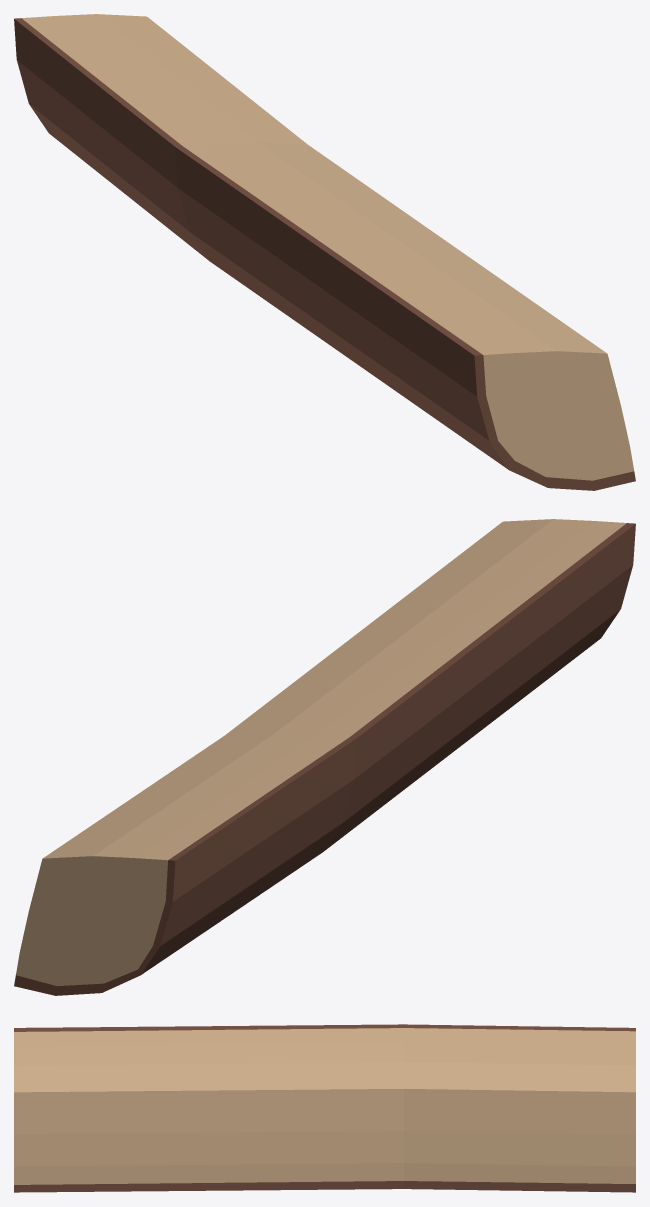
The model's file is ChoppedLog.fbx.
3 views of the same model, one above another, from view 1: azimuth 30°, elevation 25°; view 2: azimuth 150°, elevation 25°; view 3: azimuth 270°, elevation 25° (orthographic). The views are drawn at different scales.
Parts seen in each view (by area): view 1: Cube.009; view 2: Cube.009; view 3: Cube.009.
Part boxes in pixels (left/top/right/bottom): Cube.009: left=14, top=14, right=635, bottom=490; Cube.009: left=14, top=519, right=635, bottom=995; Cube.009: left=14, top=1024, right=635, bottom=1192.
Bounding box in the file's own units: 58.56 × 53.64 × 271.
